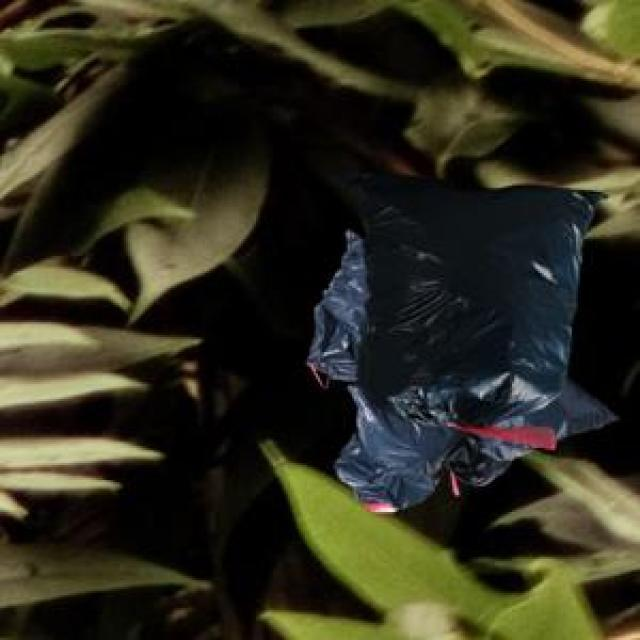waste: (308, 175, 610, 509)
